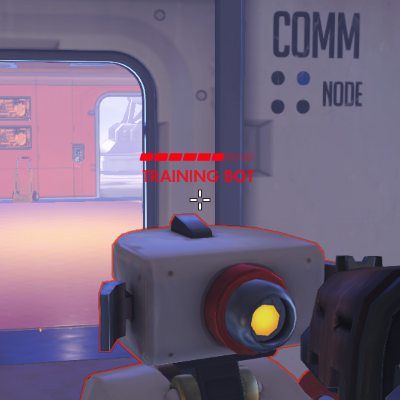hpbar: (139, 152, 255, 162)
